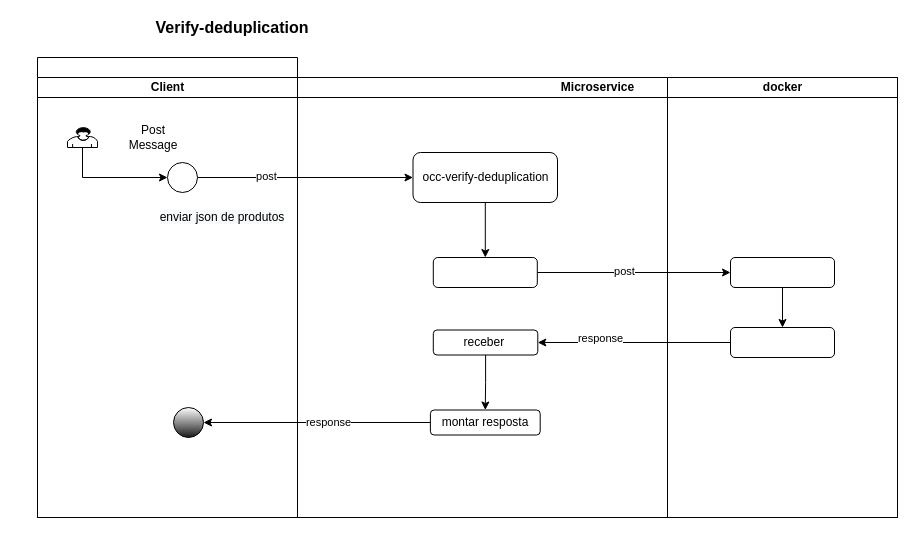
This 915x535 diagram has some shape labels left out. The shapes that lost their labels are listed below. From the top down, each one's centre as x and y in pixels, then its label:
At (484,272): "enviar json para o Python".
At (782,272): "Python".
At (782,342): "algoritmo deduplication".
